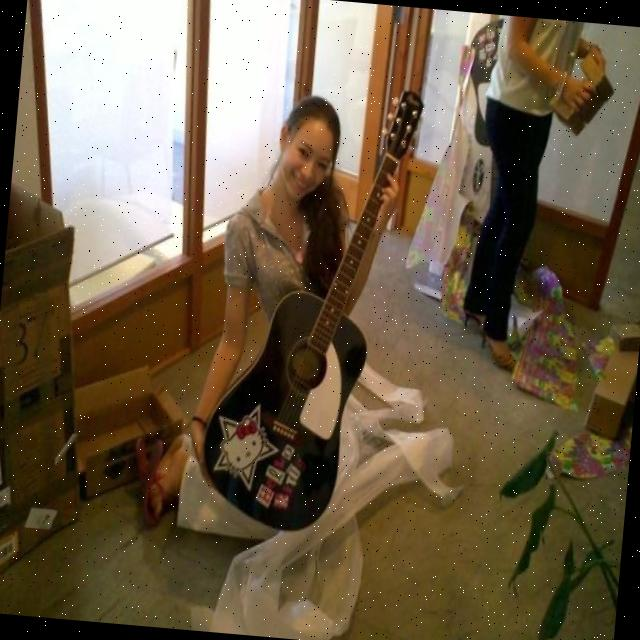guitar: (194, 72, 429, 546)
